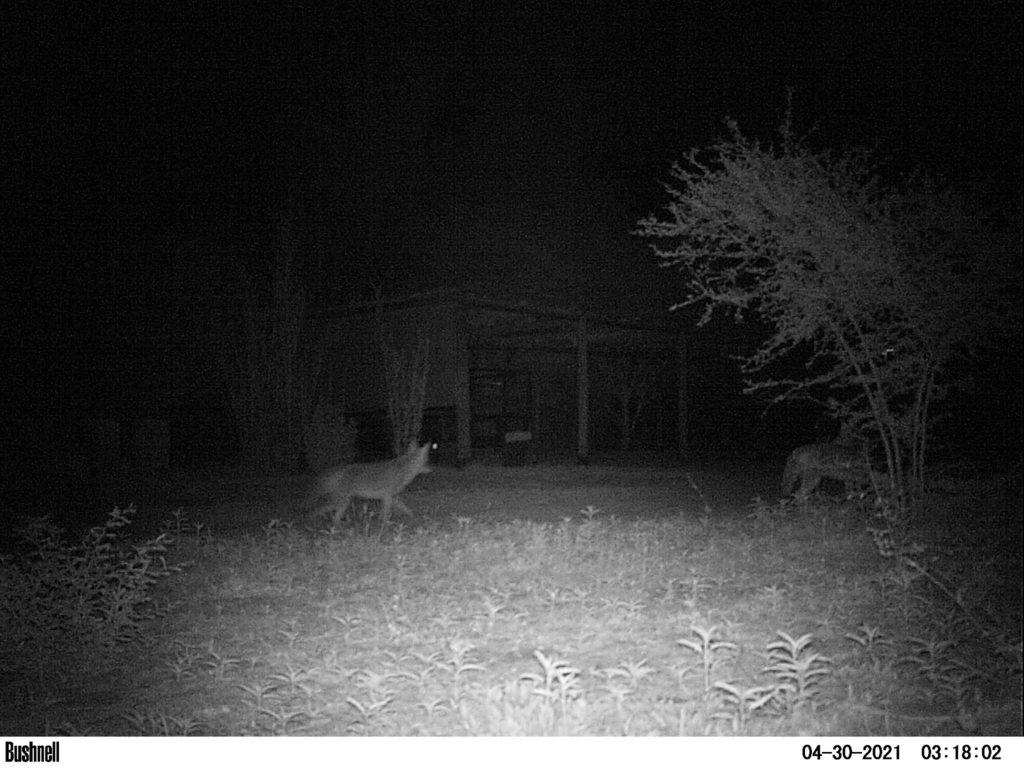Coyote: (294, 441, 436, 531)
